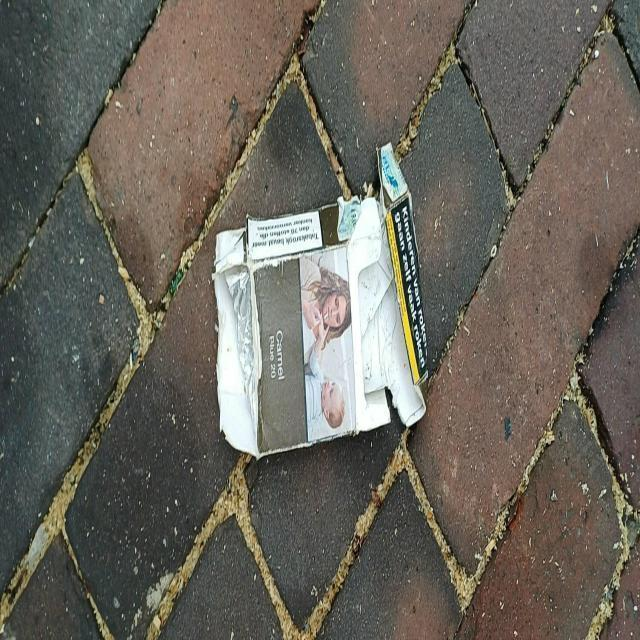Paper: (210, 137, 429, 464)
